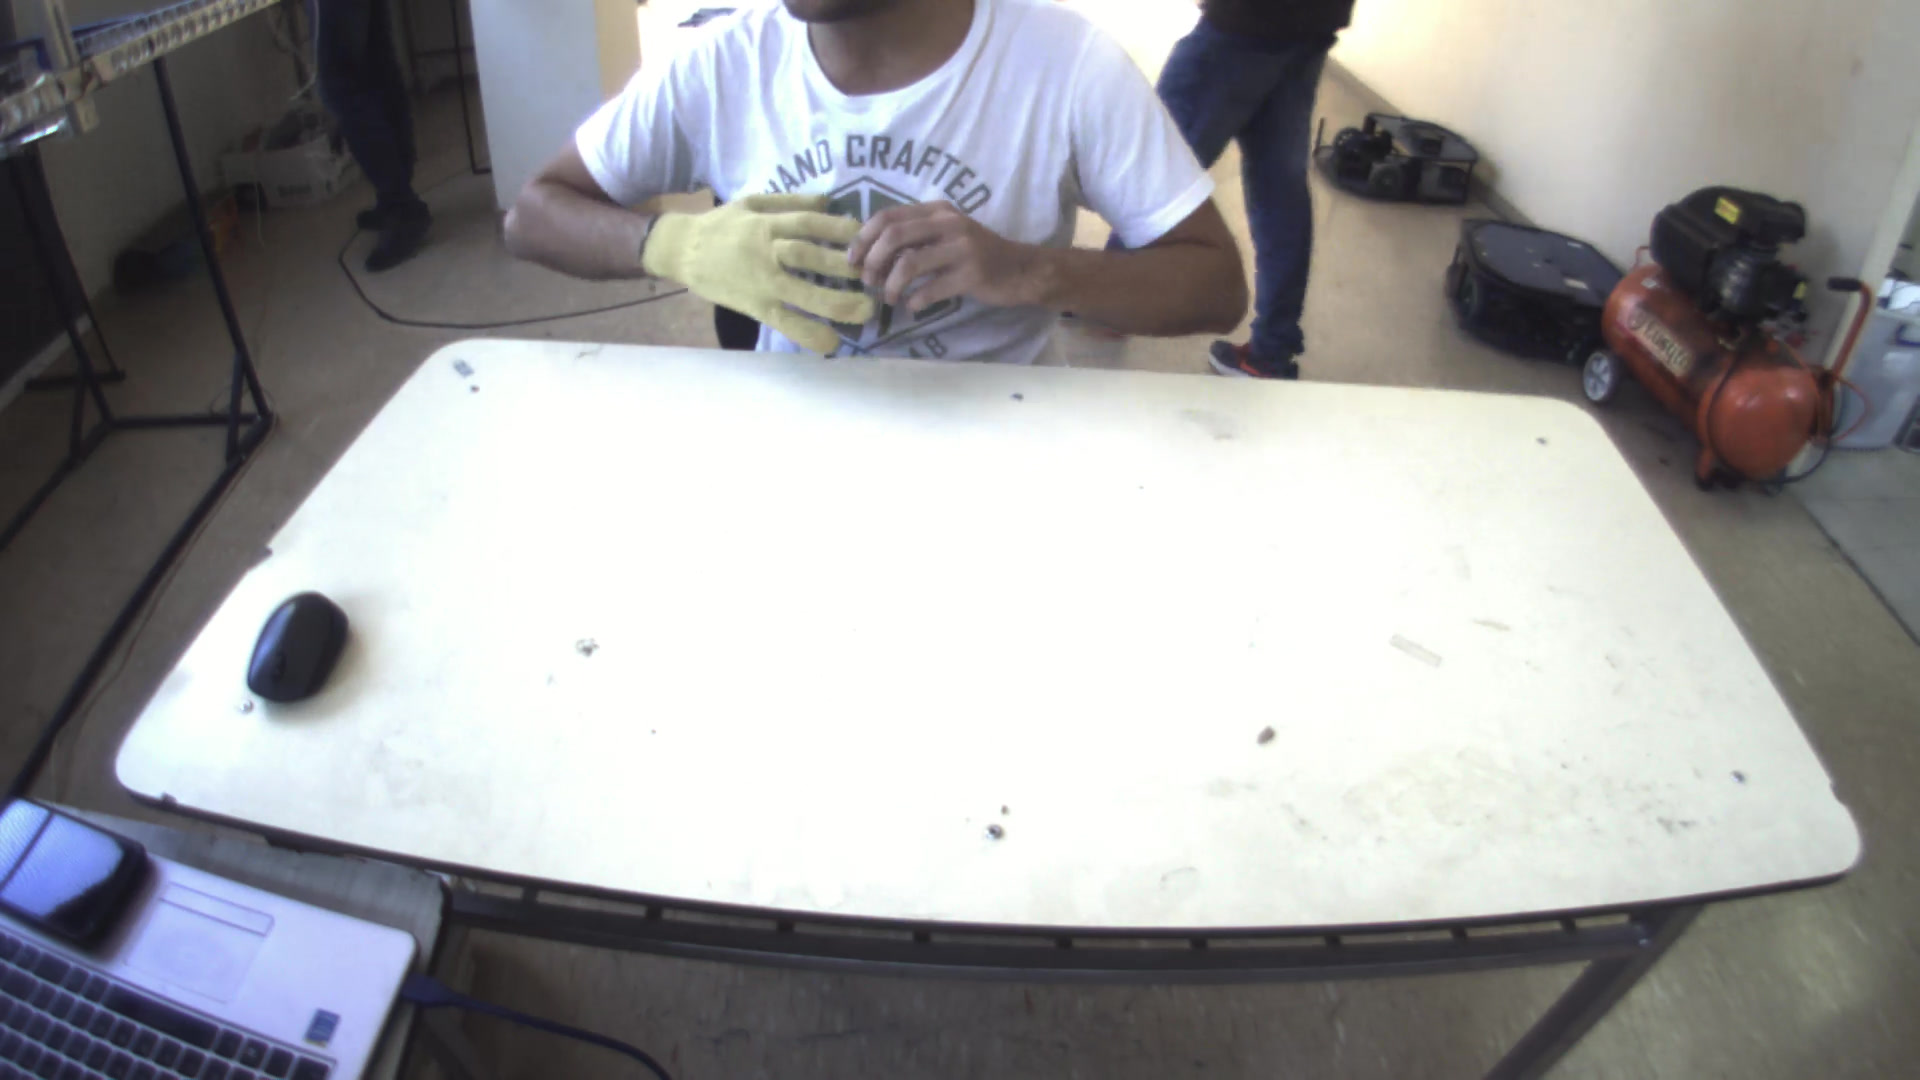hand: (633, 185, 884, 353), (851, 186, 1054, 316)
